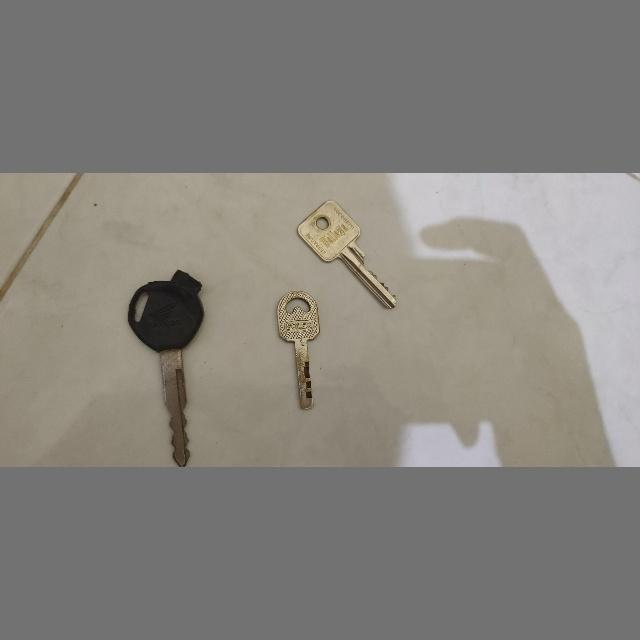Keys: (122, 269, 208, 467), (292, 190, 406, 310), (272, 287, 326, 417)
